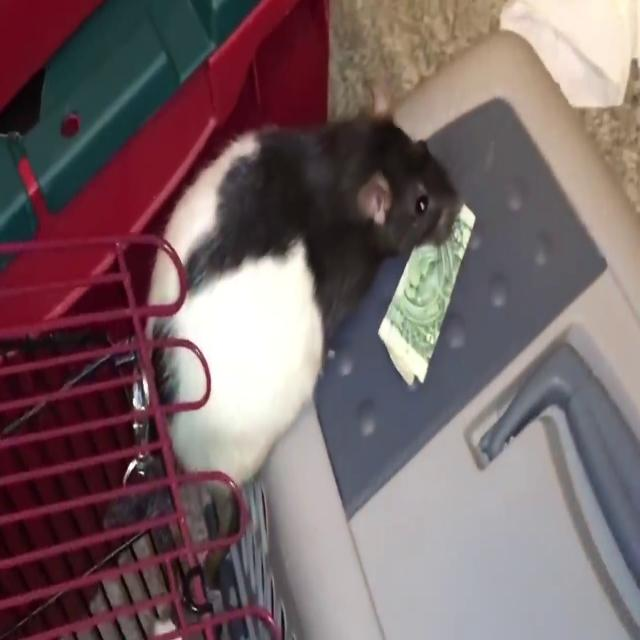rat: (146, 102, 463, 489)
